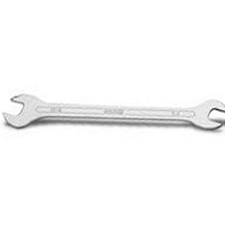wrench: (3, 76, 225, 148)
